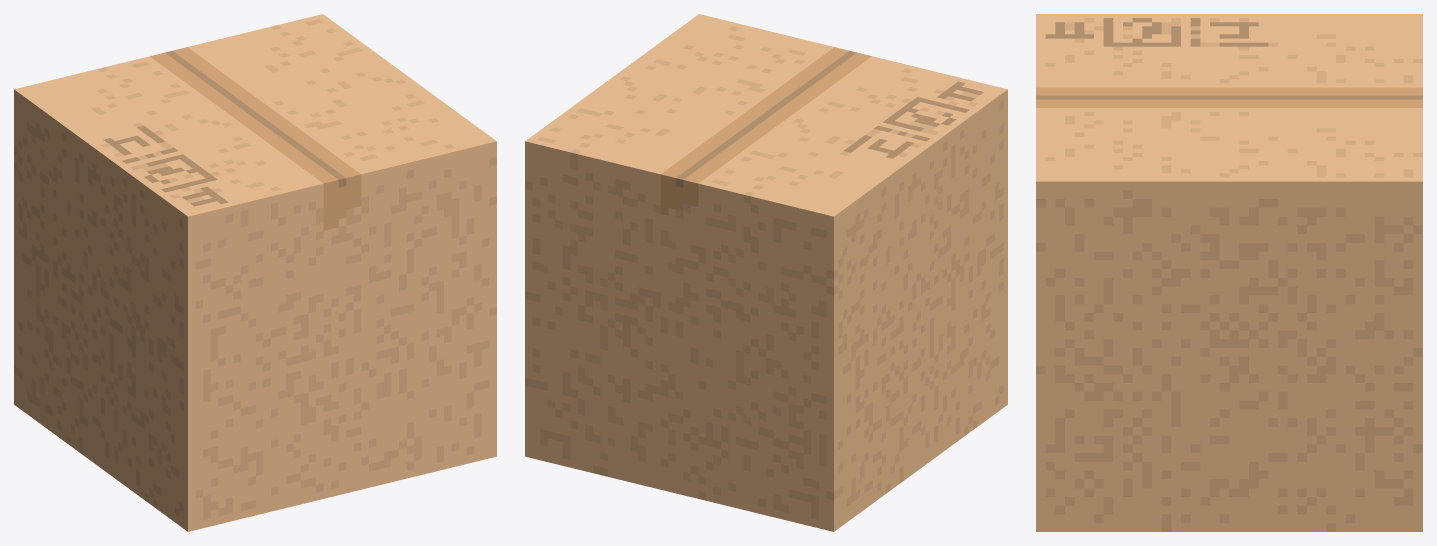
File: others2-8.obj
3 renders of one model, left to right at view 1: azimuth 30°, elevation 25°; view 2: azimuth 150°, elevation 25°; view 3: azimuth 270°, elevation 25°, orthographic. The views are drawn at different scales.
Bounding box in the file's own units: 4.1 × 4 × 4.
Materials: 1 (1 with a texture image).
